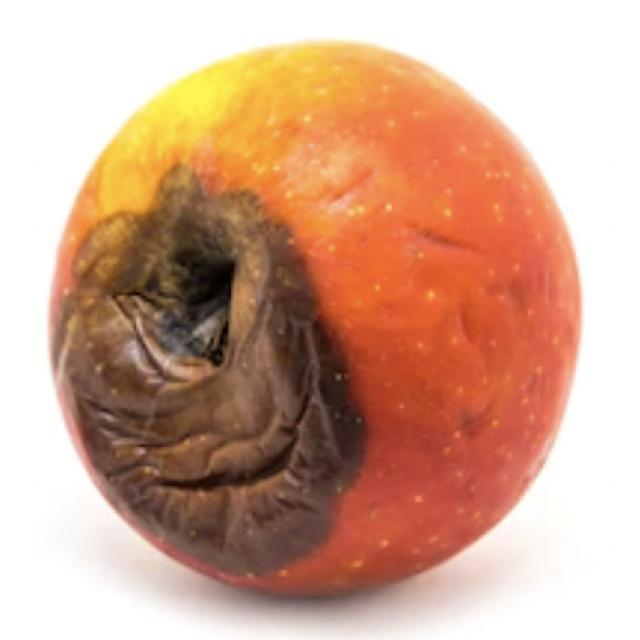Rotten: (45, 39, 583, 604)
